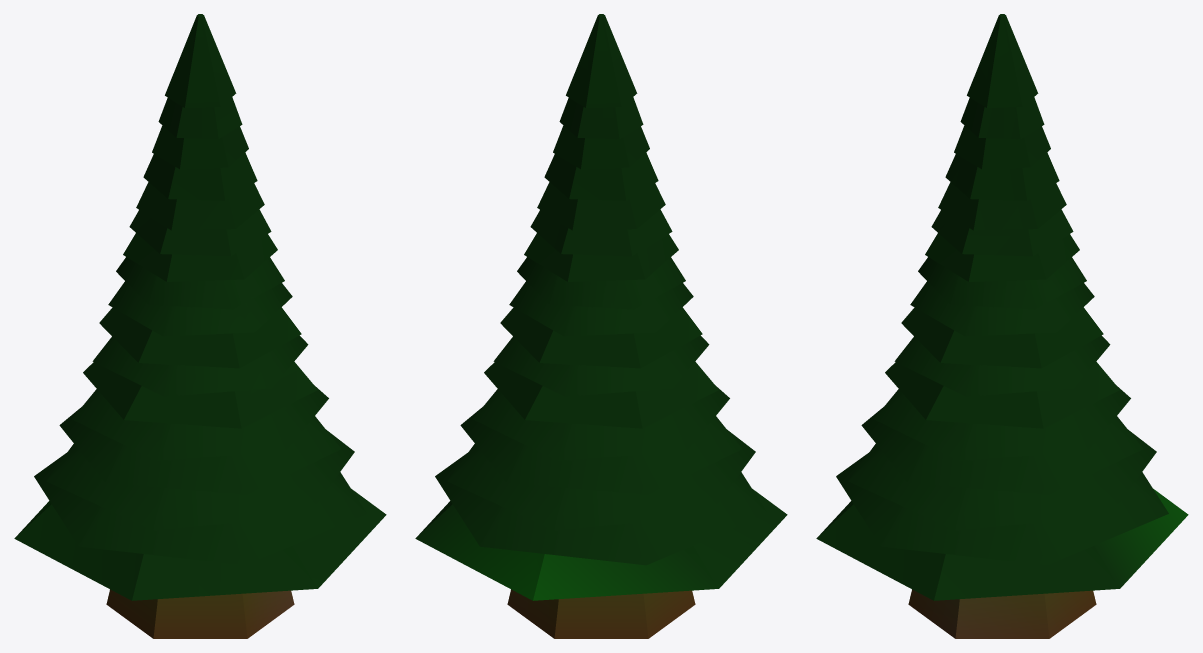
The model's file is Pine_2.glb.
The picture shows the model from 3 angles, left to right: view 1: azimuth 30°, elevation 25°; view 2: azimuth 150°, elevation 25°; view 3: azimuth 270°, elevation 25°; orthographic projection.
Visible parts, largest first — view 1: Pine_2; view 2: Pine_2; view 3: Pine_2.
Part boxes in pixels (x1,y1,x2,y2): Pine_2: (14,14,386,638); Pine_2: (415,14,787,638); Pine_2: (816,14,1188,638).
Size of the model in its own units: 2.32 by 4.31 by 2.47.
Materials: 1 (1 with a texture image).
